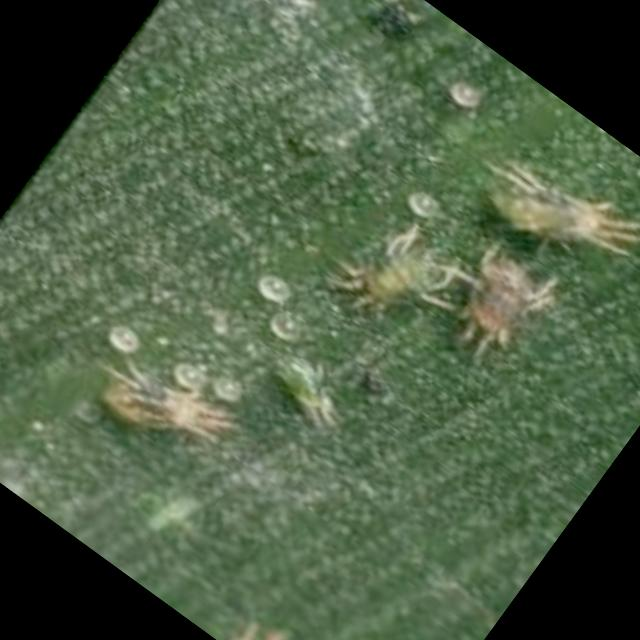spider mite: (427, 65, 640, 305), (68, 321, 278, 523), (303, 164, 500, 367), (220, 328, 392, 494), (440, 237, 584, 375)
